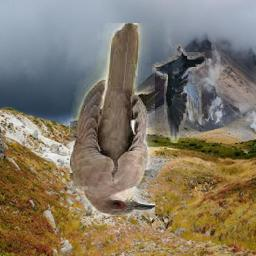Crow: (153, 45, 206, 144)
Cuckoo: (71, 24, 156, 217)
